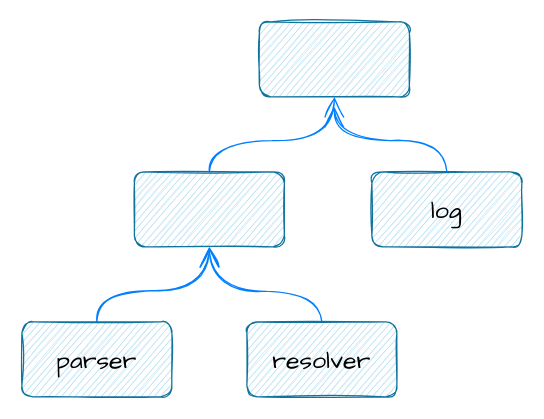
Image size: 544x419. Some labels were removed from this diagram. Here are the shapes that lost their labels. From the top down, the centre of each, then its label:
At (333,59): "app".
At (208,209): "calculator".
